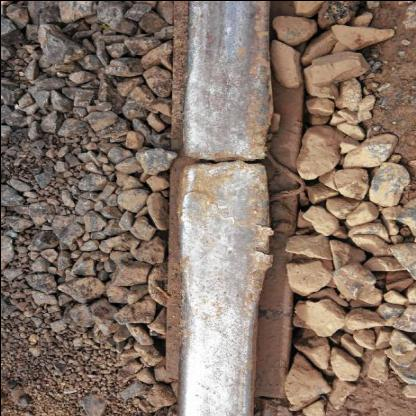Defective 2: (98, 113, 268, 269)
